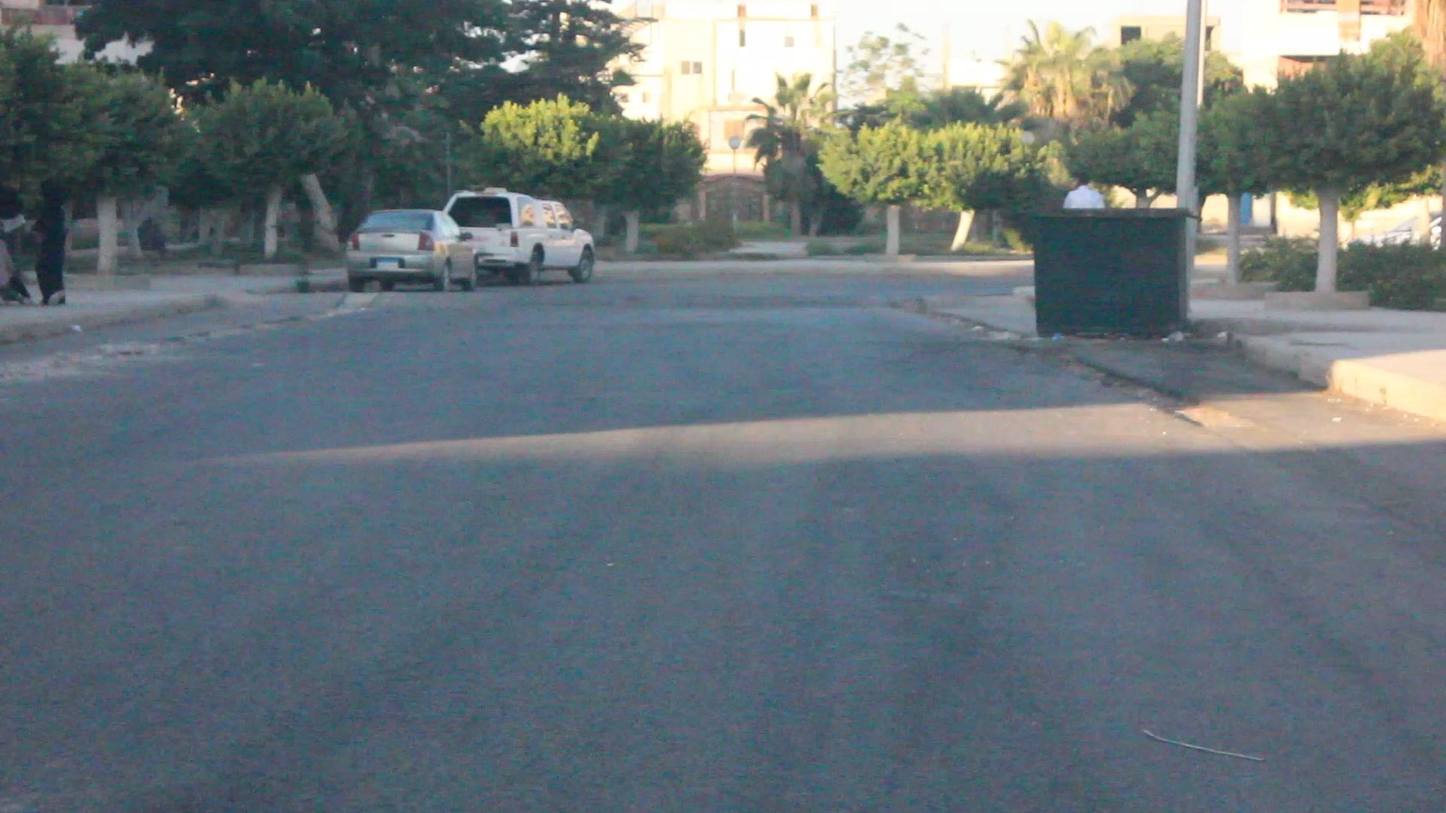Bump: (313, 294, 911, 312)
